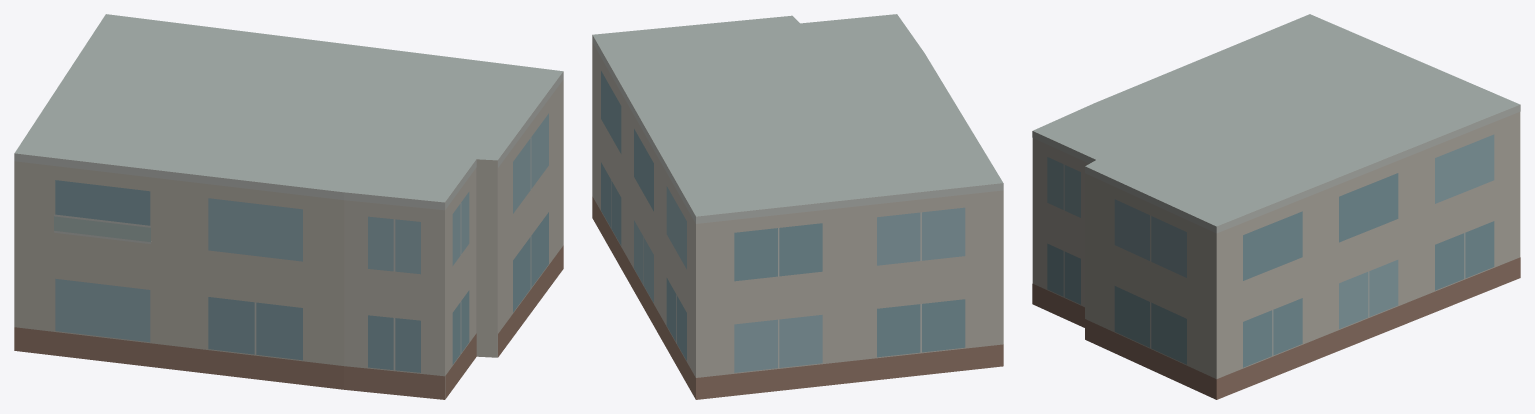
Rendered from survey-upis-32686251.glb.
The picture shows the model from 3 angles, left to right: view 1: azimuth 30°, elevation 25°; view 2: azimuth 150°, elevation 25°; view 3: azimuth 270°, elevation 25°; orthographic projection. The views are drawn at different scales.
Parts seen in each view (by area): view 1: survey-upis-32686251.tmp; view 2: survey-upis-32686251.tmp; view 3: survey-upis-32686251.tmp.
Boxes of the visible parts, x1,y1,x2,y2 form: survey-upis-32686251.tmp: (14, 14, 563, 399); survey-upis-32686251.tmp: (592, 14, 1003, 399); survey-upis-32686251.tmp: (1032, 14, 1520, 399).
Bounding box in the file's own units: 16.05 × 6.1 × 15.57.
